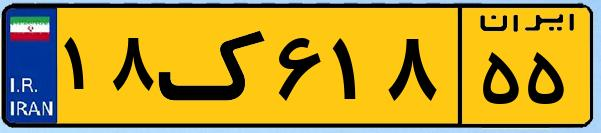1: (330, 28, 385, 110), (57, 26, 110, 100)
5: (475, 38, 525, 113), (525, 38, 570, 115)
6: (270, 28, 330, 110)
8: (385, 28, 445, 110), (110, 28, 158, 98)
ک: (158, 12, 270, 120)
